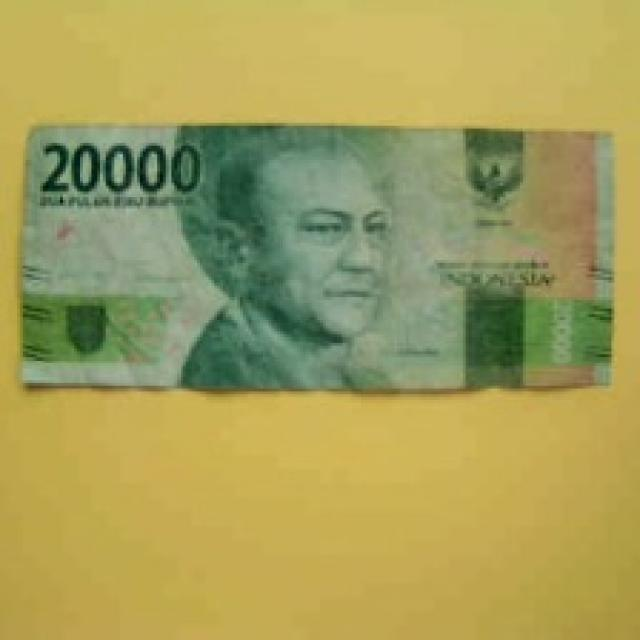dua puluh ribu rupiah: (11, 95, 640, 401)
